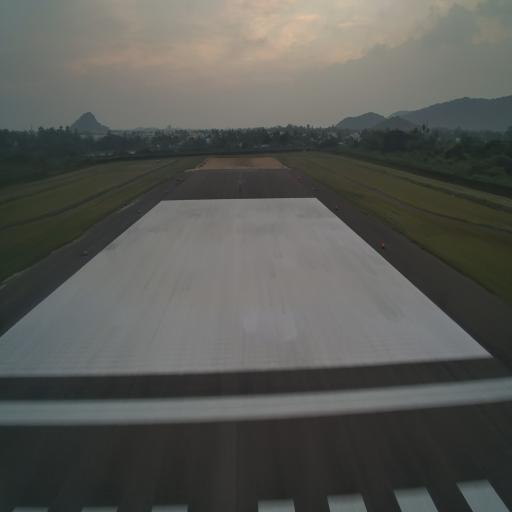on: (379, 238, 386, 252), (82, 248, 88, 260), (136, 208, 142, 215), (334, 203, 338, 212)
